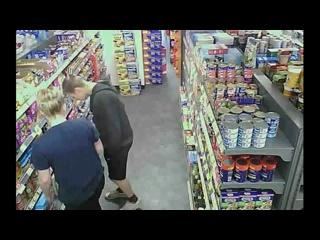Normal: (62, 74, 140, 206), (30, 115, 106, 210)
